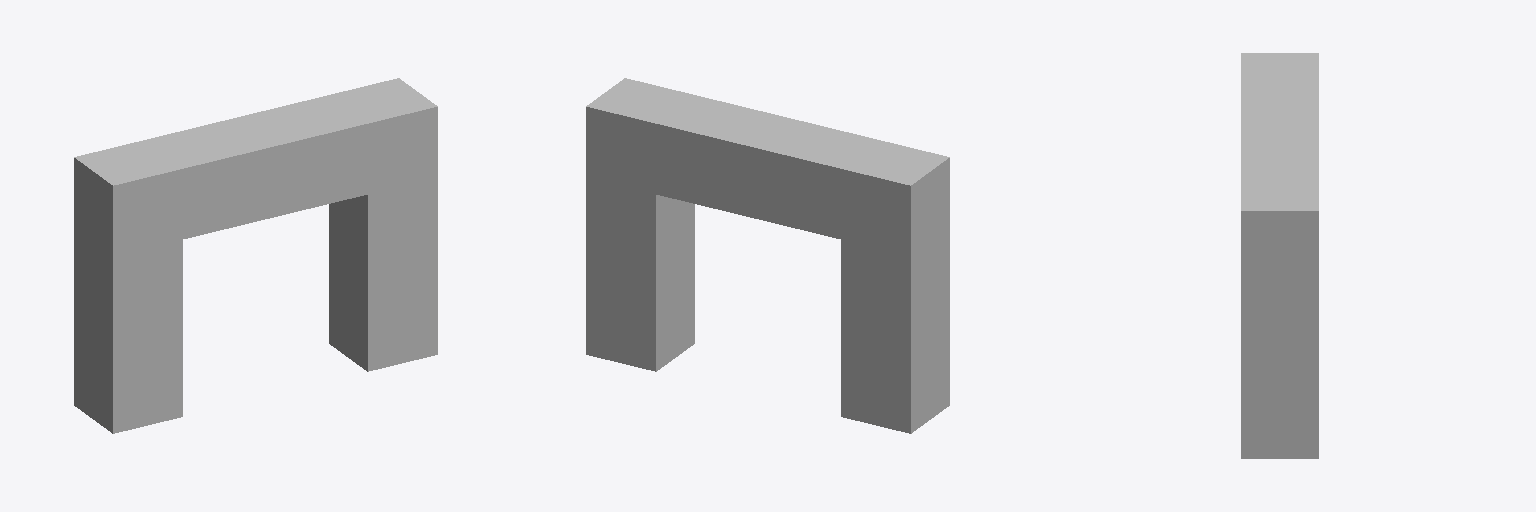
The model's file is roughladderStep.obj.
3 views of the same model, side by side, from view 1: azimuth 30°, elevation 25°; view 2: azimuth 150°, elevation 25°; view 3: azimuth 270°, elevation 25° (orthographic).
Parts seen in each view (by area): view 1: Cube; view 2: Cube; view 3: Cube.
Part boxes in pixels (x1,y1,x2,y2): Cube: (74,78,437,433); Cube: (586,78,949,433); Cube: (1241,53,1318,458).
Bounding box in the file's own units: 0.4614 × 0.3368 × 0.0961.